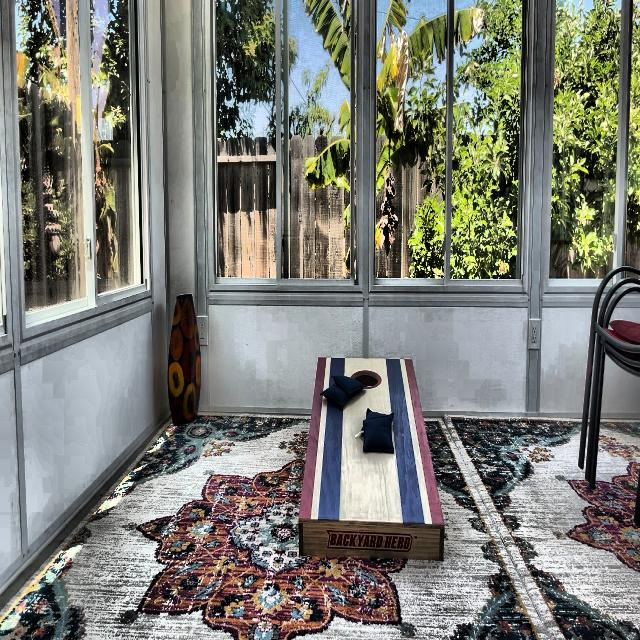blue-bean-bag: (362, 418, 393, 454), (361, 407, 394, 434), (330, 373, 368, 396), (321, 384, 352, 408)
board: (311, 358, 423, 518)
hole: (351, 369, 383, 389)
